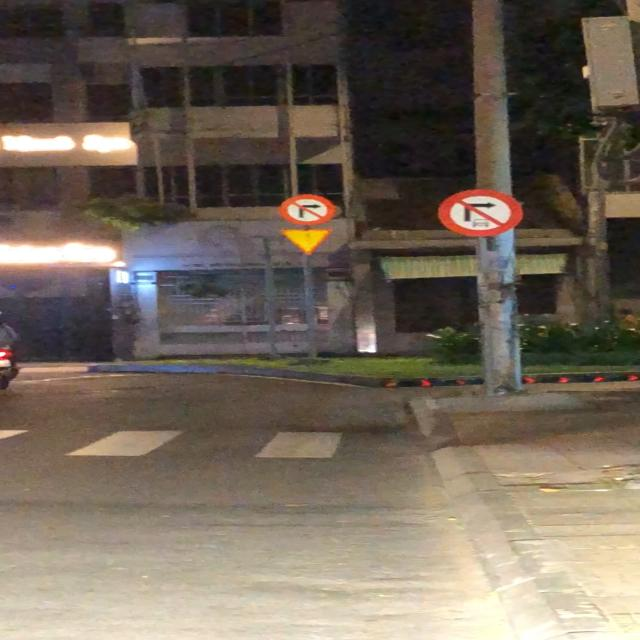Bien bao cam re phai: (279, 192, 336, 225)
Bien bao cam xe o to re phai: (436, 186, 528, 240)
Bien bao giao nhau voi duong uu tien: (276, 228, 341, 258)
